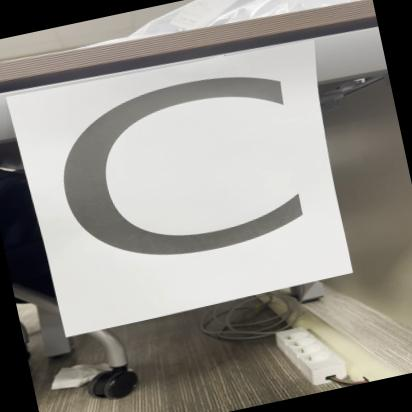seat: (29, 25, 358, 335)
